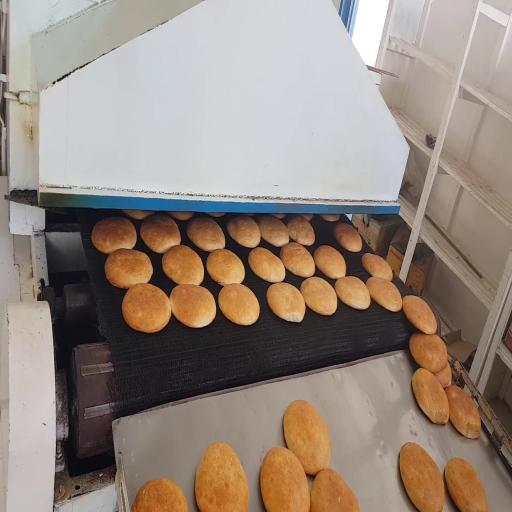bread: (195, 443, 249, 511), (283, 400, 330, 475), (260, 447, 310, 511), (400, 443, 444, 511), (122, 284, 171, 333), (445, 458, 488, 511), (412, 368, 449, 424), (311, 468, 359, 511), (170, 284, 216, 328), (131, 478, 188, 511), (105, 249, 153, 288), (445, 386, 481, 438), (91, 217, 136, 254), (219, 284, 259, 325), (140, 214, 180, 254), (162, 246, 203, 284), (267, 283, 305, 322), (410, 333, 447, 373), (301, 277, 337, 315), (248, 247, 285, 283), (207, 249, 244, 285), (403, 295, 437, 334), (187, 217, 225, 251), (280, 242, 315, 277), (366, 277, 402, 311), (335, 276, 370, 310), (227, 215, 260, 247), (314, 246, 346, 279), (256, 215, 289, 246), (286, 215, 314, 245), (362, 253, 392, 281), (334, 223, 362, 252), (435, 362, 451, 388), (123, 210, 154, 219), (167, 212, 194, 220), (320, 214, 340, 221), (270, 213, 286, 219), (301, 214, 313, 221), (207, 213, 225, 217), (244, 213, 254, 216)
